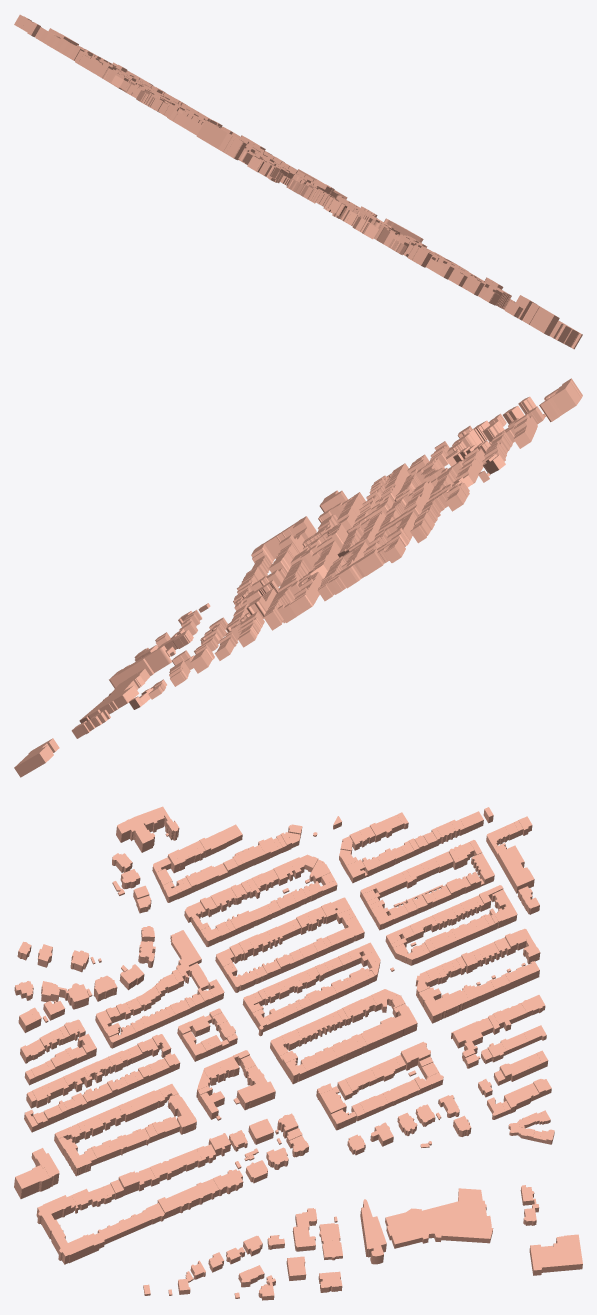
3 renders of one model, top to bottom at view 1: azimuth 30°, elevation 25°; view 2: azimuth 150°, elevation 25°; view 3: azimuth 270°, elevation 25°, orthographic. The views are drawn at different scales.
Bounding box in the file's own units: 521 × 402 × 652.
